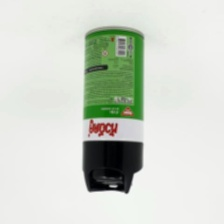aerosol_cans: (79, 23, 147, 196)
